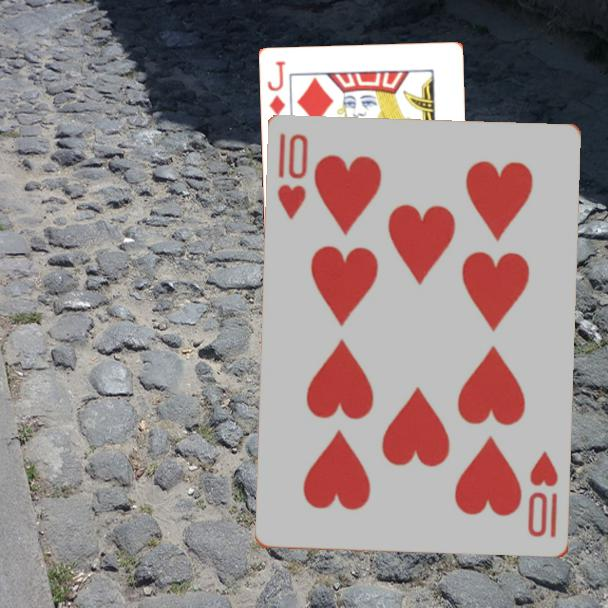d11: (264, 58, 289, 119)
h10: (524, 448, 562, 541), (274, 130, 311, 222)
